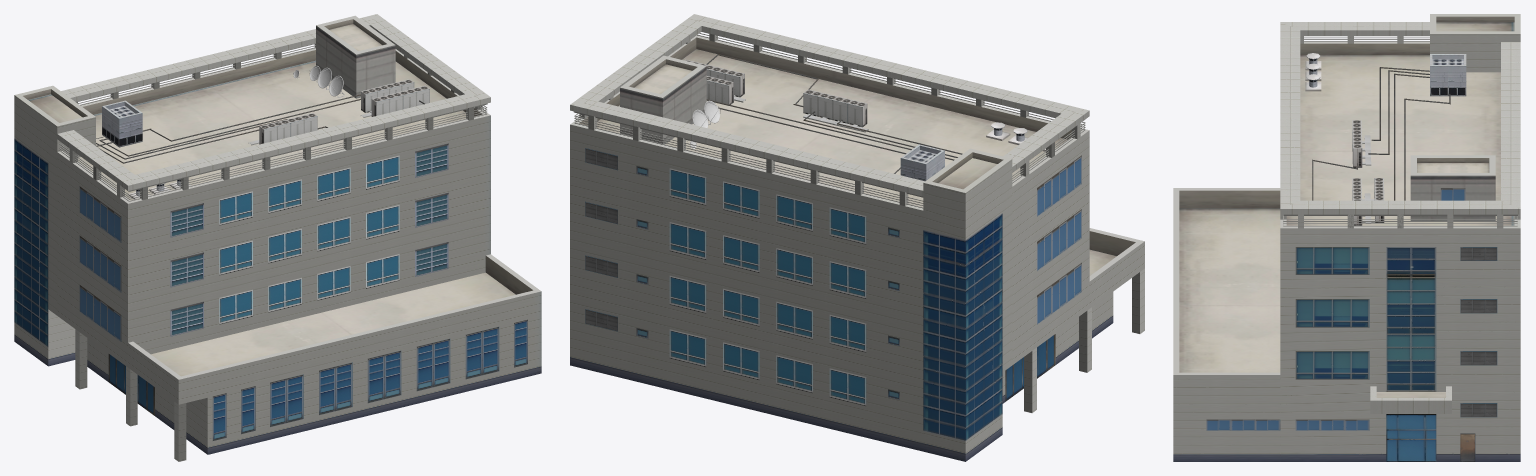
3 views of the same model, side by side, from view 1: azimuth 30°, elevation 25°; view 2: azimuth 150°, elevation 25°; view 3: azimuth 270°, elevation 25° (orthographic). The views are drawn at different scales.
Parts seen in each view (by area): view 1: MainBuilding; view 2: MainBuilding; view 3: MainBuilding.
Boxes of the visible parts, left/top/right/bottom form: MainBuilding: left=14, top=14, right=541, bottom=461; MainBuilding: left=570, top=14, right=1144, bottom=461; MainBuilding: left=1173, top=14, right=1520, bottom=461.
Size of the model in its own units: 3.83 by 2.39 by 2.8.
1 material, 1 textured.
